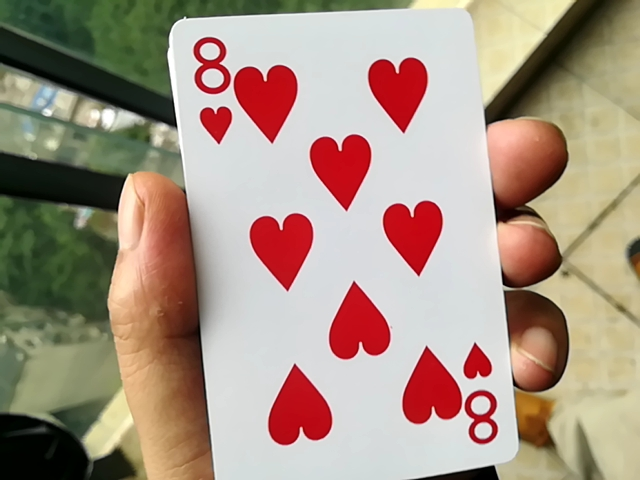hx 8: (147, 15, 511, 478)
